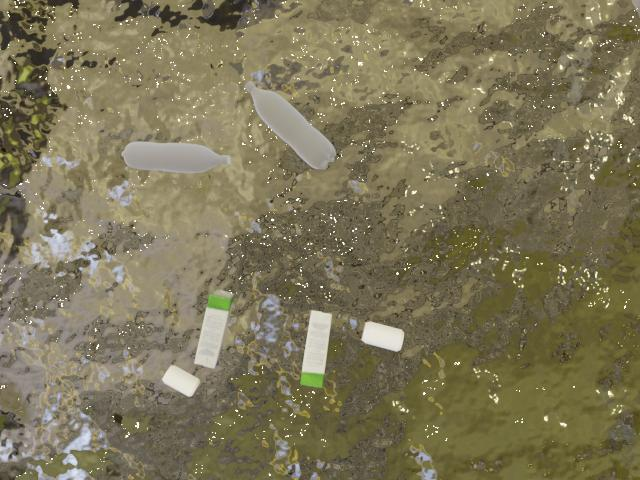Metal: (143, 356, 204, 414), (357, 309, 413, 361)
Plastic: (115, 115, 230, 200), (239, 81, 344, 170)
Trash: (287, 298, 343, 391), (189, 271, 239, 373)
